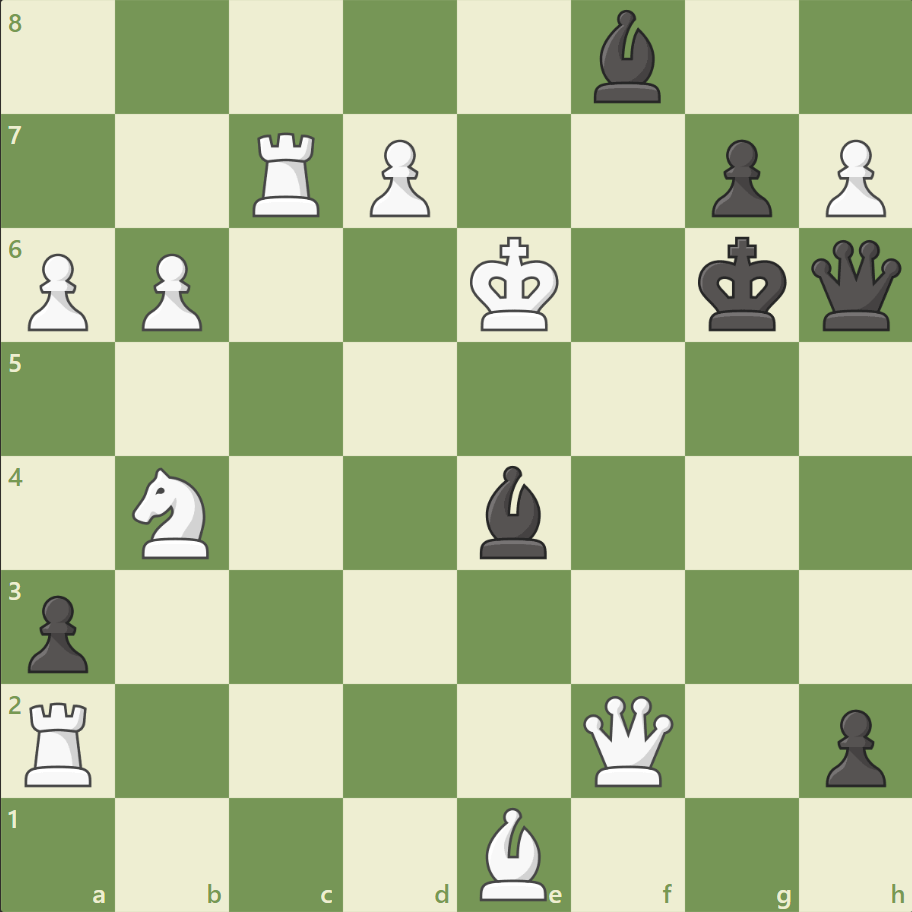B: (471, 801, 555, 904)
K: (465, 231, 565, 339)
N: (124, 461, 222, 564)
P: (20, 246, 95, 337), (133, 246, 208, 337), (361, 132, 435, 223), (815, 132, 889, 223)
Q: (578, 690, 677, 789)
R: (246, 125, 329, 222), (19, 693, 102, 790)
b: (585, 6, 669, 109), (471, 460, 555, 563)
k: (692, 231, 792, 339)
p: (701, 132, 776, 223), (20, 586, 95, 677), (815, 700, 889, 791)
q: (805, 236, 904, 335)
